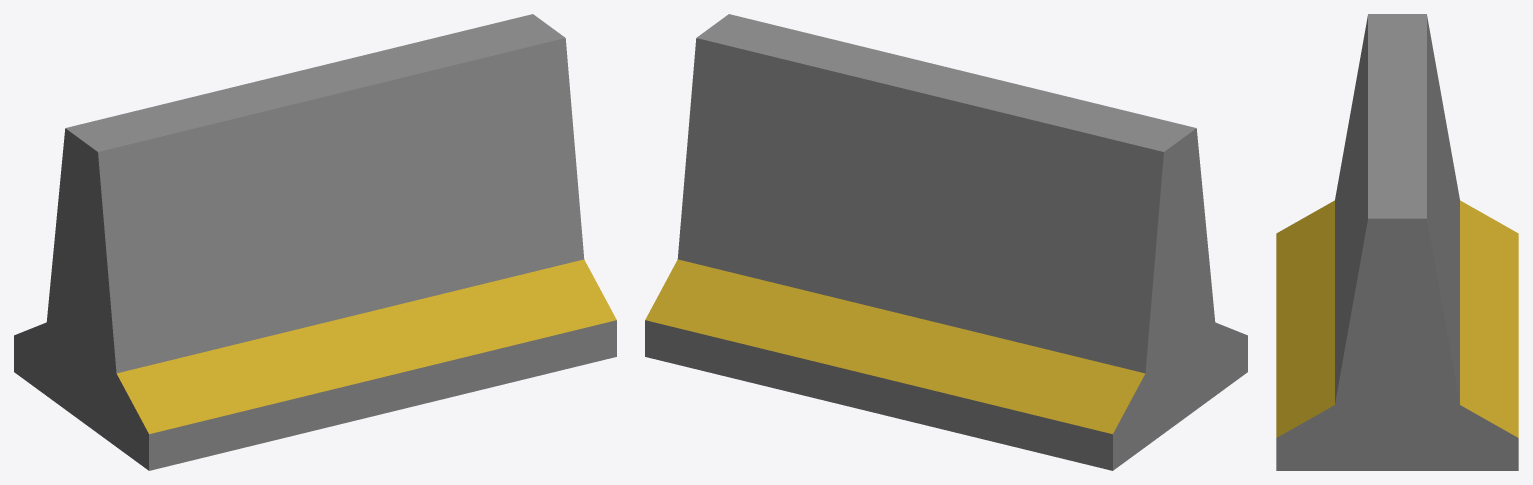
File: concrete_barricade.fbx
The picture shows the model from 3 angles, left to right: view 1: azimuth 30°, elevation 25°; view 2: azimuth 150°, elevation 25°; view 3: azimuth 270°, elevation 25°; orthographic projection. The views are drawn at different scales.
Parts seen in each view (by area): view 1: Barricade; view 2: Barricade; view 3: Barricade.
Boxes of the visible parts, box(x1,y1,x2,y2) form: Barricade: box(14, 14, 616, 470); Barricade: box(645, 14, 1247, 470); Barricade: box(1276, 14, 1518, 470).
Bounding box in the file's own units: 360 × 207 × 180.
